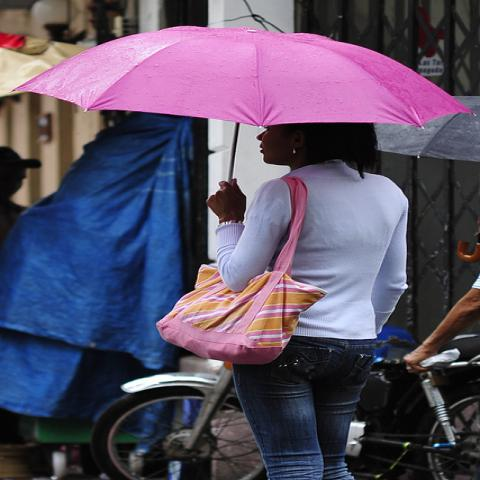motorcycle: (83, 362, 266, 479)
